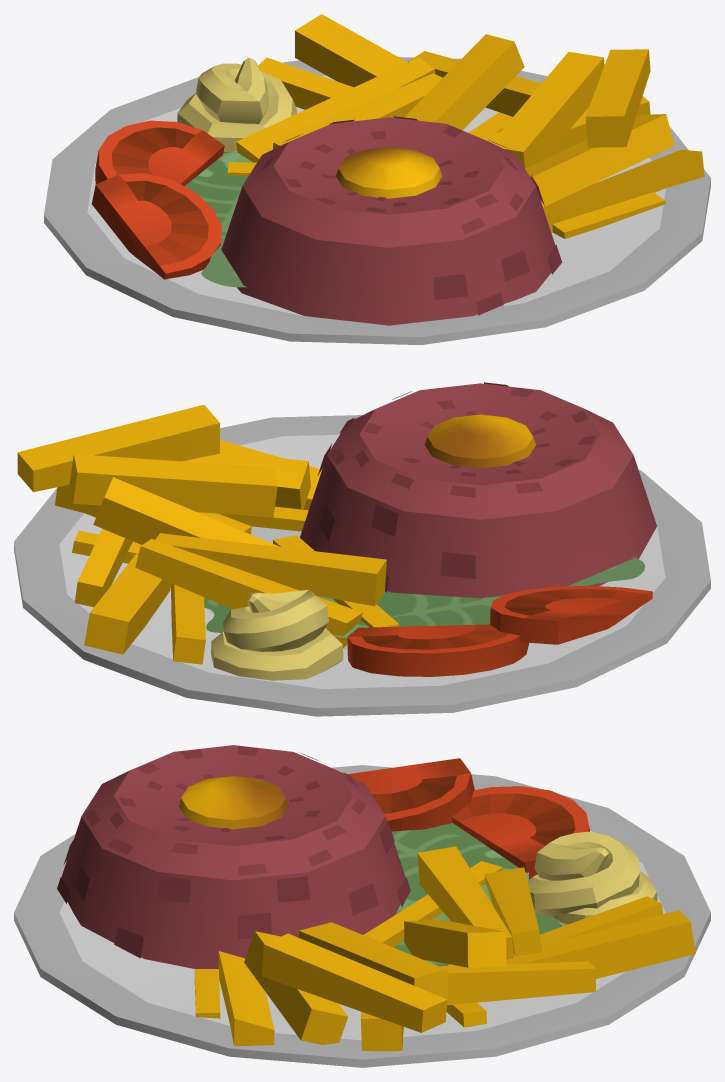
File: 3D_dishe_Items_Americain-préparer.fbx
The picture shows the model from 3 angles, top to bottom: view 1: azimuth 30°, elevation 25°; view 2: azimuth 150°, elevation 25°; view 3: azimuth 270°, elevation 25°; orthographic projection. The views are drawn at different scales.
Parts seen in each view (by area): view 1: 3D_dishe_Items_Americain-préparer; view 2: 3D_dishe_Items_Americain-préparer; view 3: 3D_dishe_Items_Americain-préparer.
Part boxes in pixels (left/top/right/bottom): 3D_dishe_Items_Americain-préparer: left=44, top=14, right=710, bottom=345; 3D_dishe_Items_Americain-préparer: left=14, top=382, right=710, bottom=716; 3D_dishe_Items_Americain-préparer: left=14, top=745, right=710, bottom=1067.
Size of the model in its own units: 73.19 by 14.57 by 71.64.
